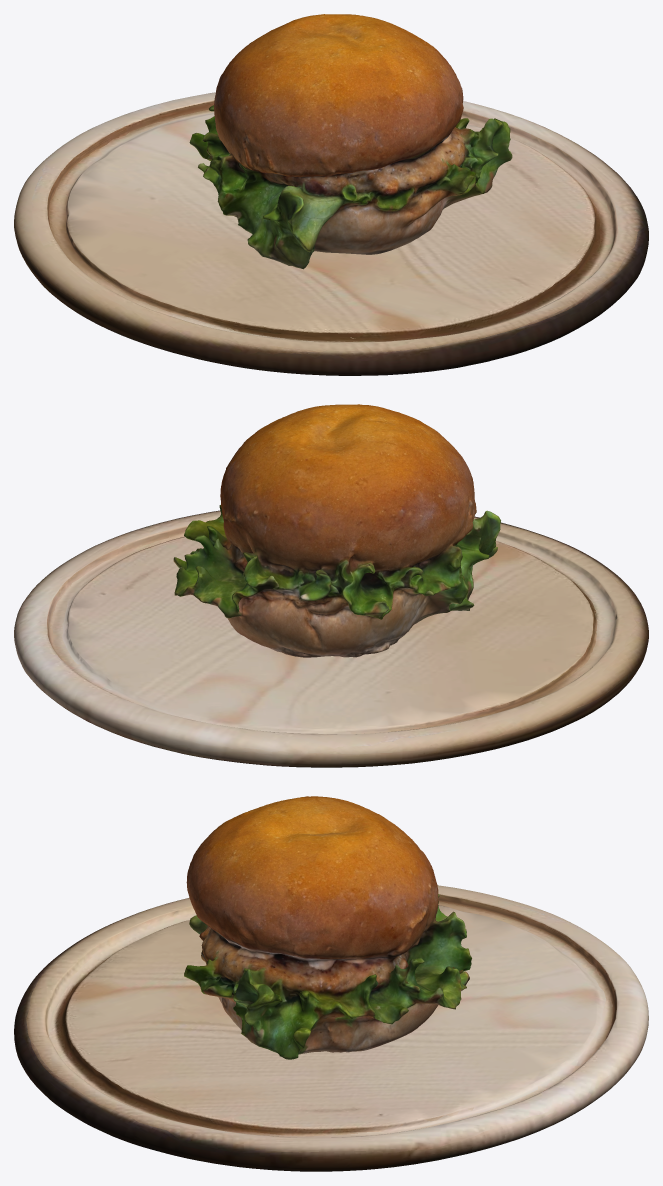
File: Chichen.burger.bite.glb
3 renders of one model, top to bottom at view 1: azimuth 30°, elevation 25°; view 2: azimuth 150°, elevation 25°; view 3: azimuth 270°, elevation 25°, orthographic.
Visible parts, largest first — view 1: Submesh_0.001, 3DModel; view 2: Submesh_0.001, 3DModel; view 3: Submesh_0.001, 3DModel.
Boxes of the visible parts, x1,y1,x2,y2 form: Submesh_0.001: (14,92,648,375); 3DModel: (189,14,512,269); Submesh_0.001: (14,510,648,767); 3DModel: (173,404,500,657); Submesh_0.001: (14,885,648,1171); 3DModel: (184,796,471,1059).
Bounding box in the file's own units: 0.2887 × 0.1123 × 0.2886.
2 materials, 2 textured.
